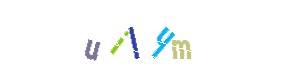1: (102, 0, 182, 80)
4: (123, 0, 203, 80)
I: (78, 0, 158, 80)
M: (124, 0, 204, 80)
U: (70, 0, 150, 80)
